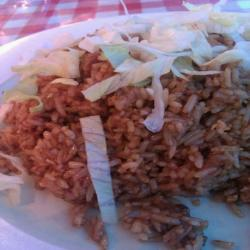rice: (23, 72, 249, 204)
salad: (29, 9, 249, 74)
